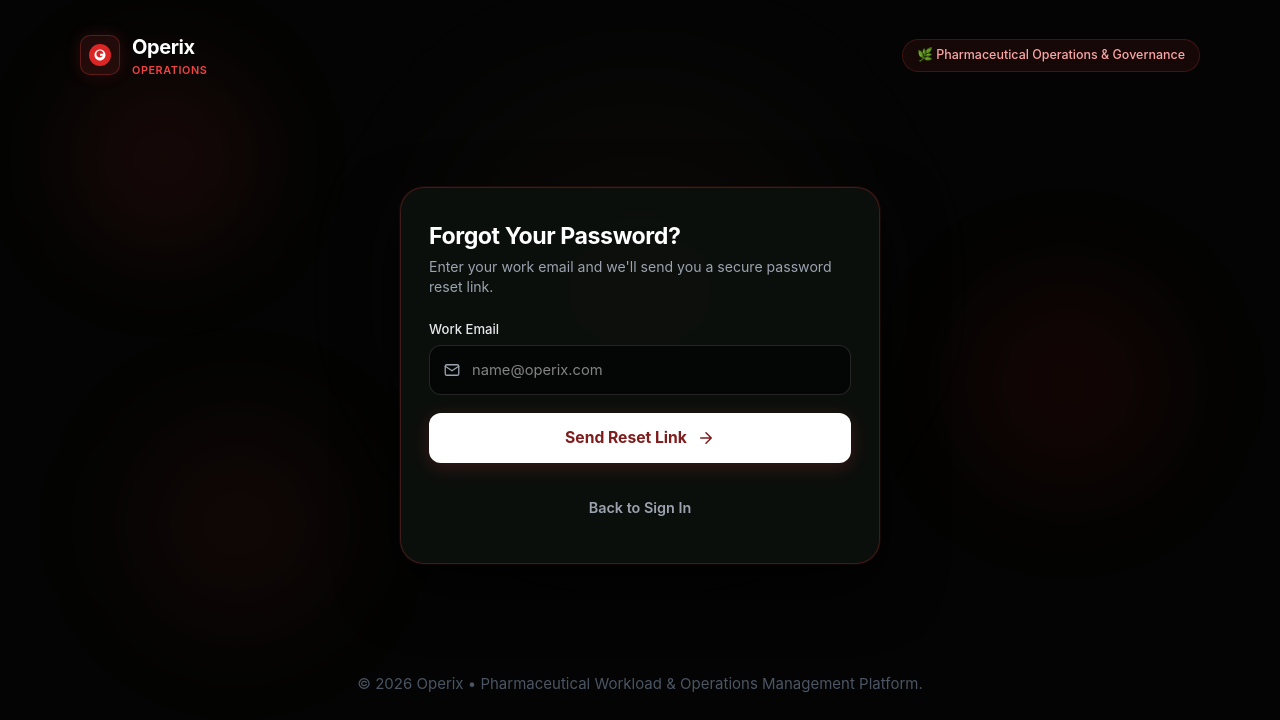
Test: ForgotPasswordPage › keeps the form available with a safe retry message when the request fails
Type "arnab@operix.com" into the field labelled "Work Email" at {"x": 640, "y": 370}, box [429,345,851,395]
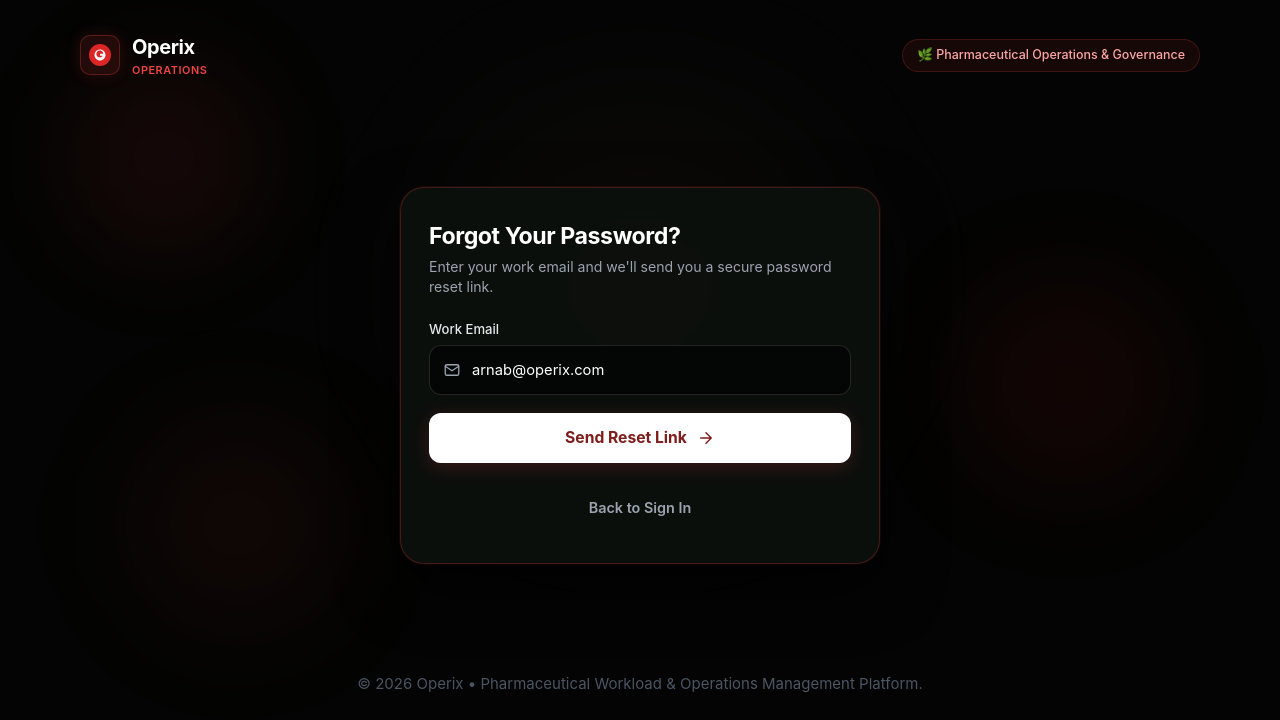
Click the button "Send Reset Link" at {"x": 640, "y": 438}, box [429,413,851,463]
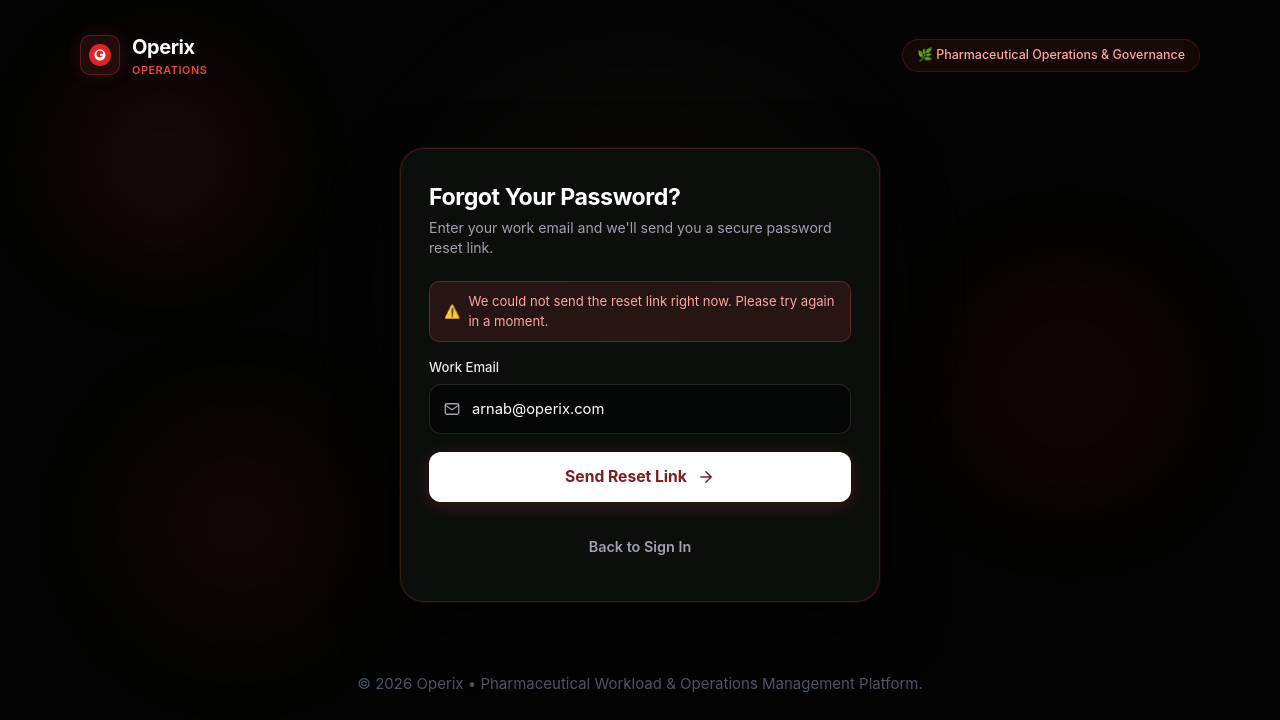
Check: the button "Send Reset Link" is enabled, box [429,452,851,502]
Check: the message shows "We could not send the reset link right now. Please try again in a moment.", box [468,293,834,329]
